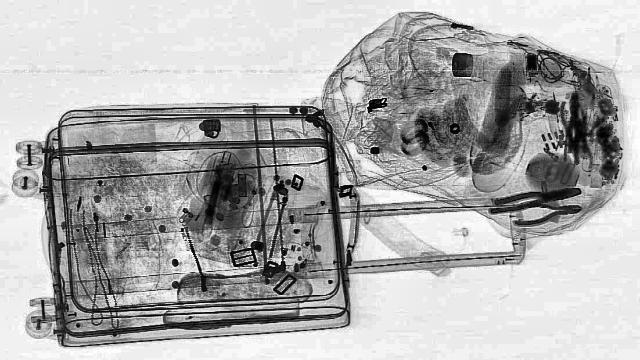Pliers: (481, 181, 585, 215), (559, 93, 593, 164), (507, 198, 588, 226)
